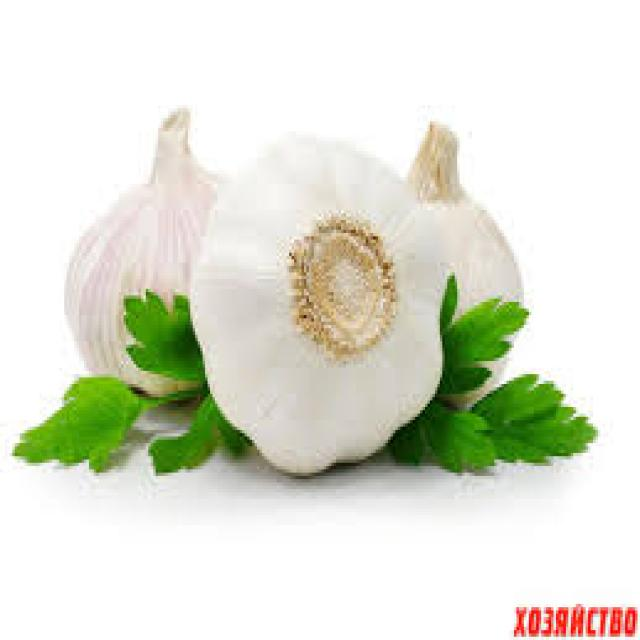Garlic: (183, 120, 458, 470), (56, 100, 233, 398), (381, 116, 538, 399)
